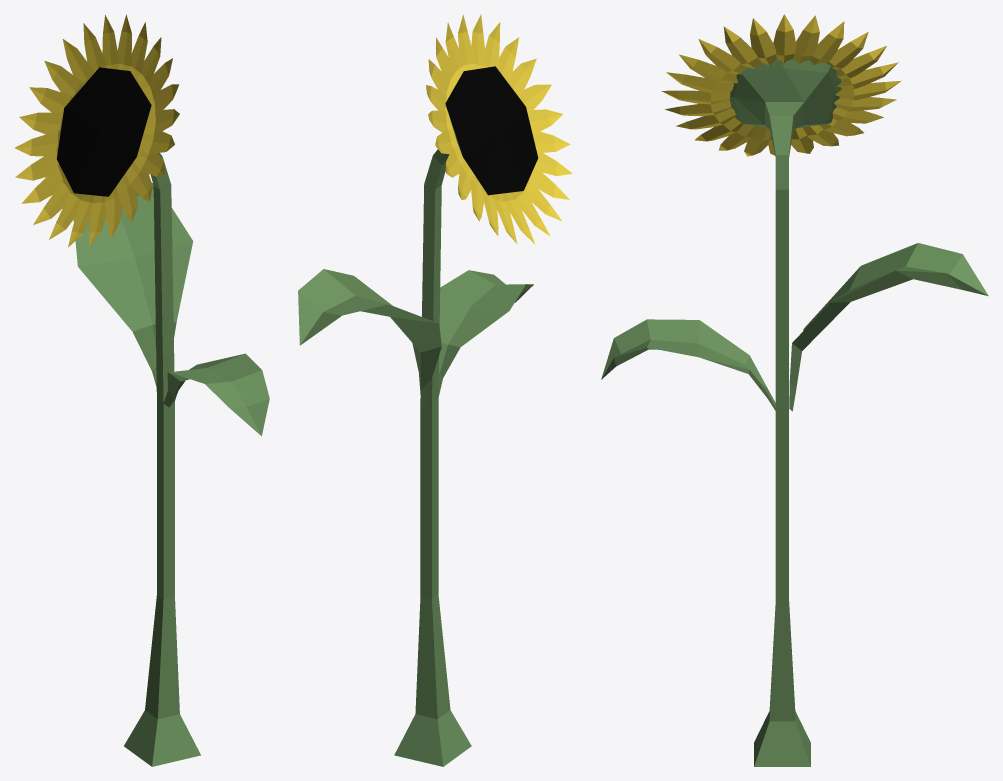
File: sunflower2.fbx
The picture shows the model from 3 angles, left to right: view 1: azimuth 30°, elevation 25°; view 2: azimuth 150°, elevation 25°; view 3: azimuth 270°, elevation 25°; orthographic projection.
Visible parts, largest first — view 1: Sunflower2; view 2: Sunflower2; view 3: Sunflower2.
Boxes of the visible parts, box(x1,y1,x2,y2) form: Sunflower2: box(14, 14, 269, 766); Sunflower2: box(298, 14, 572, 766); Sunflower2: box(601, 14, 988, 766).
Bounding box in the file's own units: 23 × 94.23 × 45.19.
